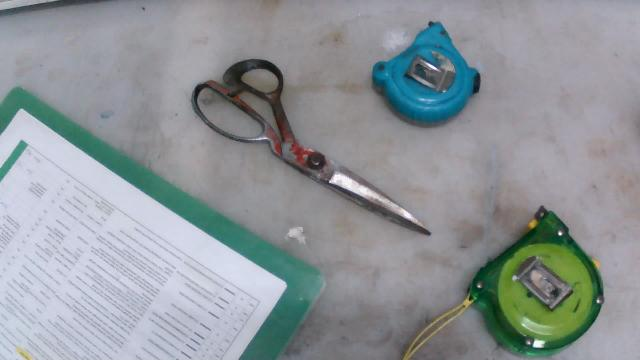gunting: (165, 32, 446, 283)
